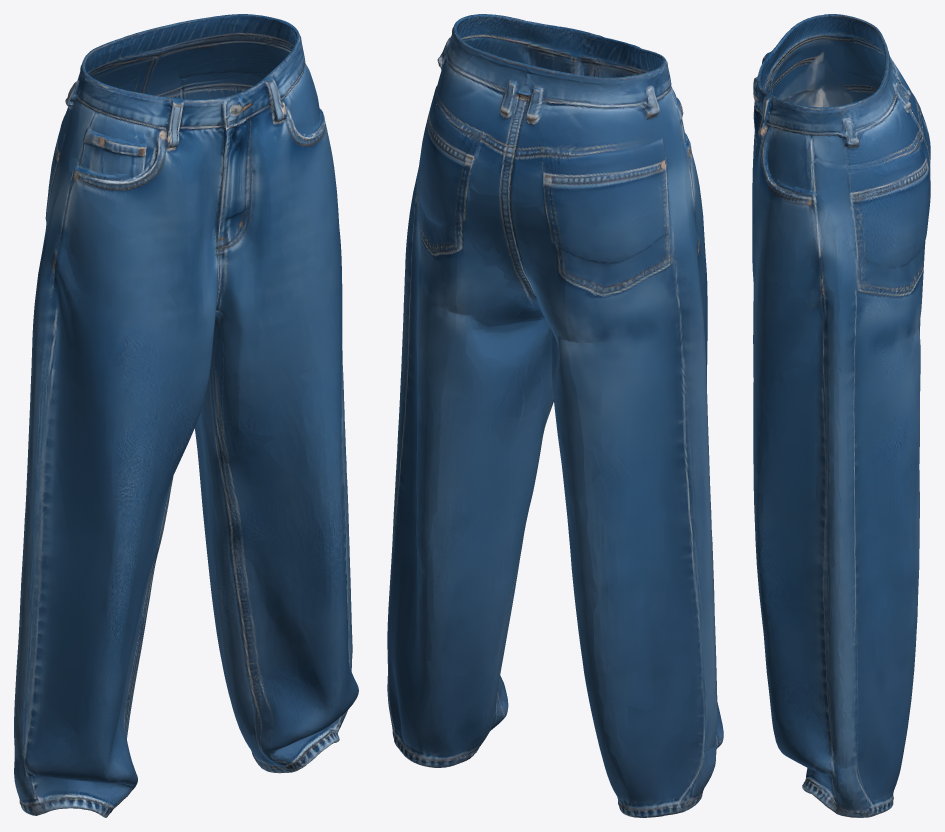
The model's file is debbd659-0eee-470e-9237-82f218fda193-meshy.glb.
3 renders of one model, left to right at view 1: azimuth 30°, elevation 25°; view 2: azimuth 150°, elevation 25°; view 3: azimuth 270°, elevation 25°, orthographic. The views are drawn at different scales.
Size of the model in its own units: 0.8891 by 1.9 by 0.4397.
Materials: 1 (1 with a texture image).
